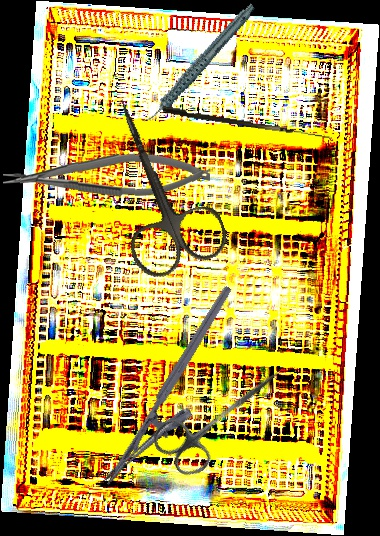Handpiece: (121, 2, 275, 126)
Hook Surgical: (162, 106, 333, 139)
Iris Scissors: (78, 81, 234, 285), (146, 345, 298, 485)
Needle Holder: (101, 284, 260, 503), (2, 150, 211, 199)
